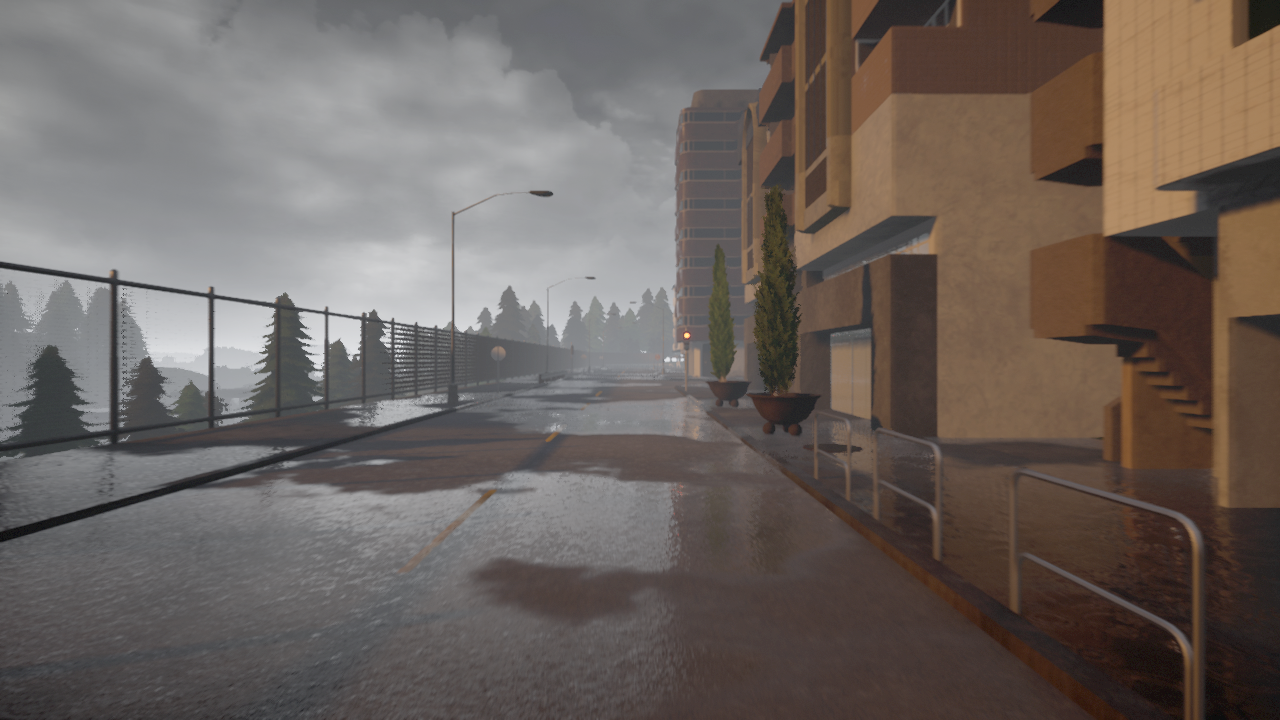red: (683, 331, 691, 351)
